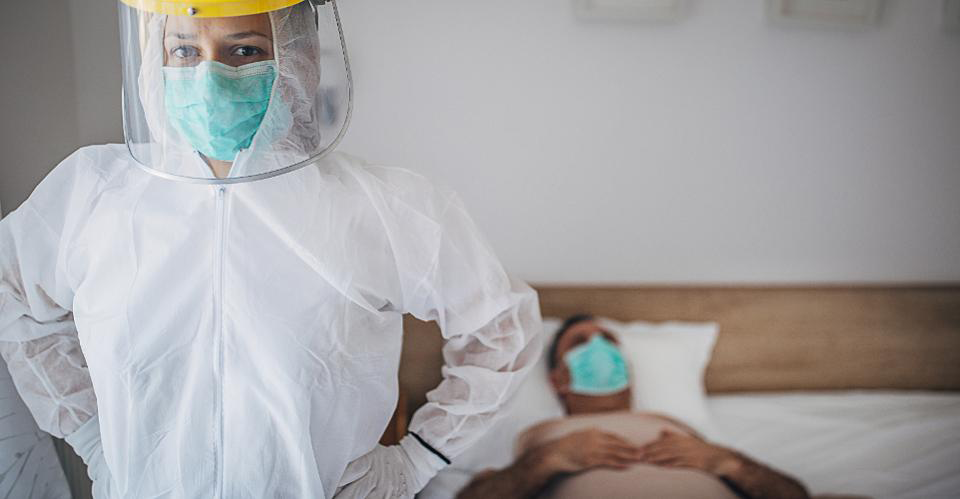Coverall: (1, 4, 544, 495)
Face_Shield: (112, 1, 359, 189)
Gloves: (337, 438, 449, 499), (63, 422, 111, 498)
Mask: (566, 340, 632, 395)
with_mask: (161, 51, 273, 161)
